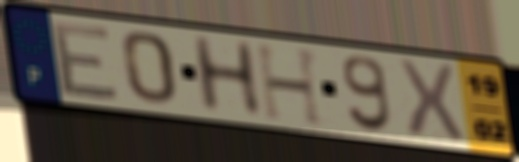0: (118, 29, 182, 108)
9: (340, 53, 394, 135)
E: (50, 20, 124, 103)
H: (251, 42, 329, 130), (187, 33, 267, 118)
X: (393, 56, 469, 144)
